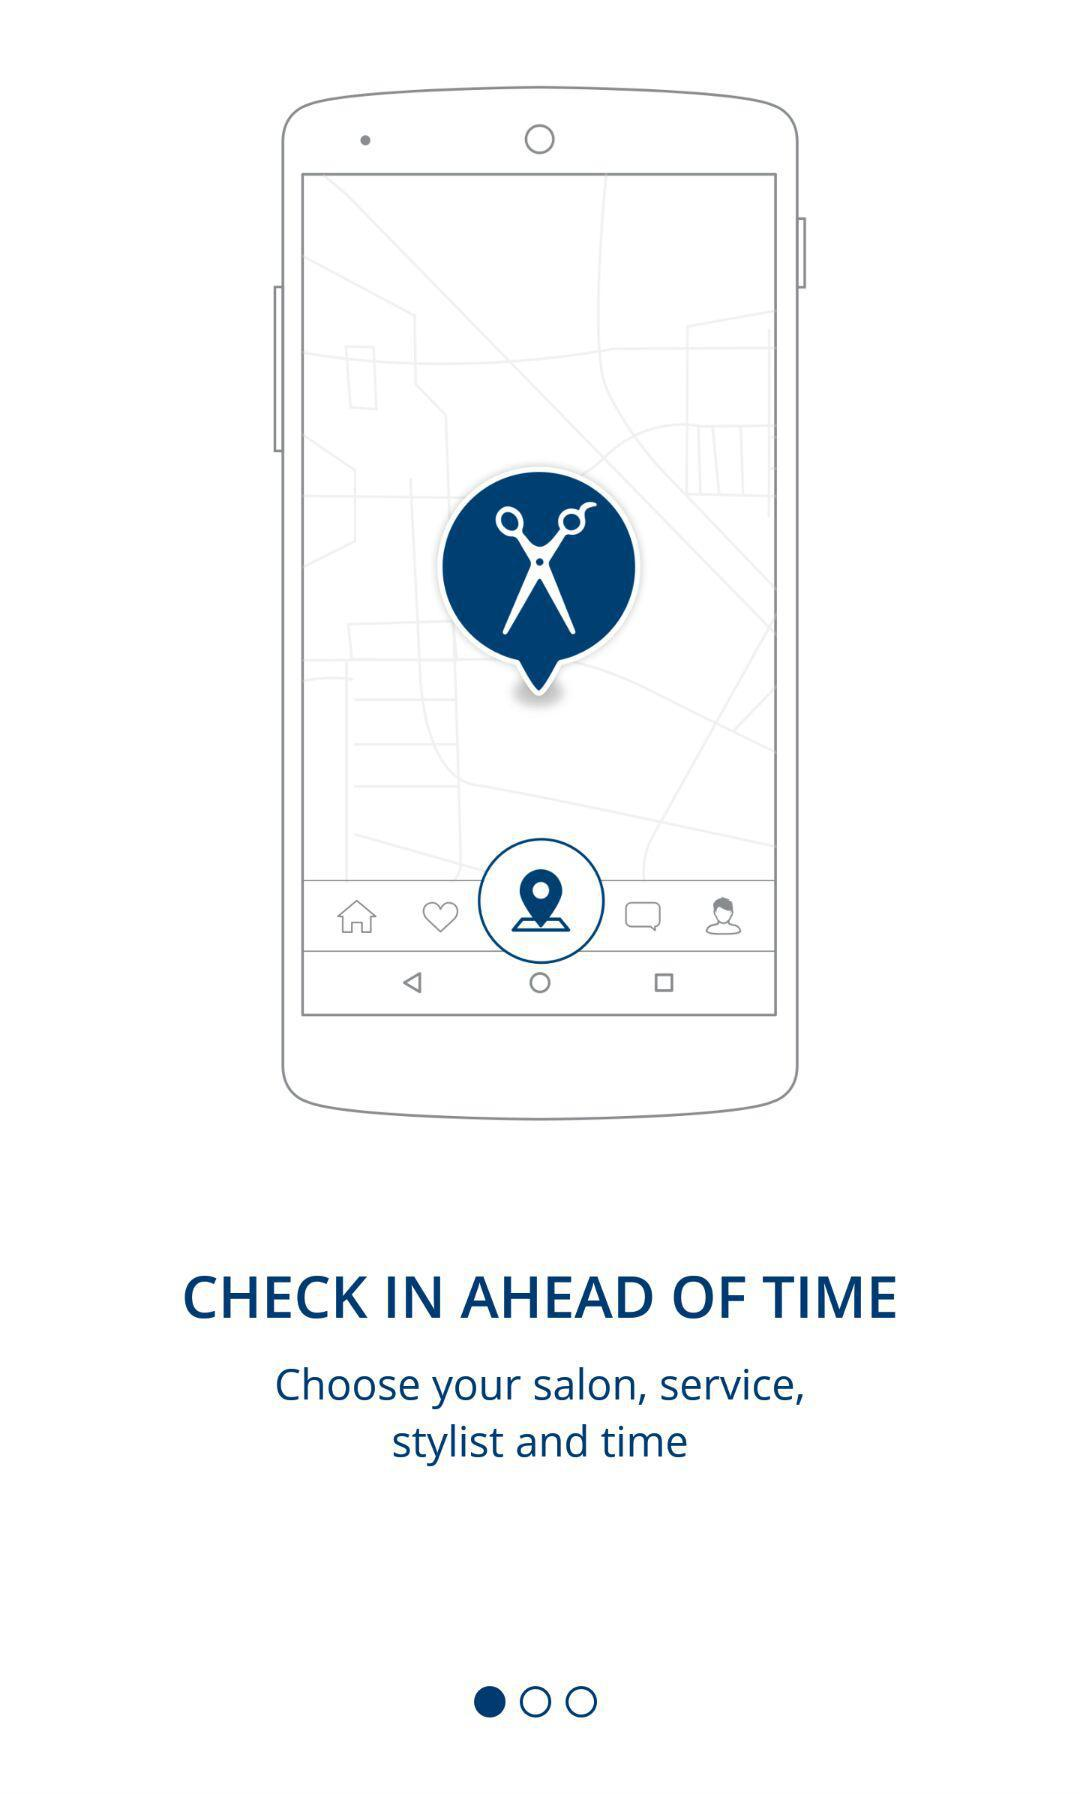Image: (273, 86, 808, 1123)
PageIndicator: (473, 1685, 600, 1718)
Text: (277, 1366, 805, 1467), (184, 1275, 897, 1320)
